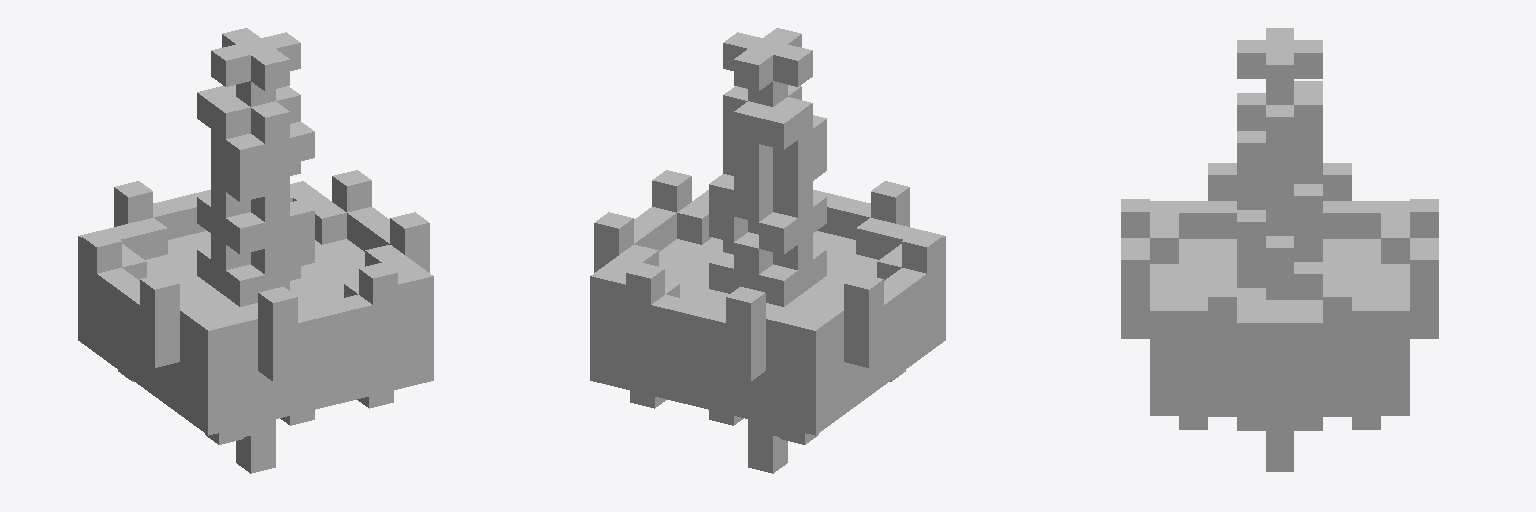
Rendered from light.obj.
The picture shows the model from 3 angles: view 1: azimuth 30°, elevation 25°; view 2: azimuth 150°, elevation 25°; view 3: azimuth 270°, elevation 25°; orthographic projection.
Visible parts, largest first — view 1: object 1; view 2: object 1; view 3: object 1.
Part boxes in pixels (x1,y1,x2,y2): object 1: (78,28,433,473); object 1: (590,28,945,473); object 1: (1121,28,1438,471).
Size of the model in its own units: 1.1 by 1.6 by 1.1.